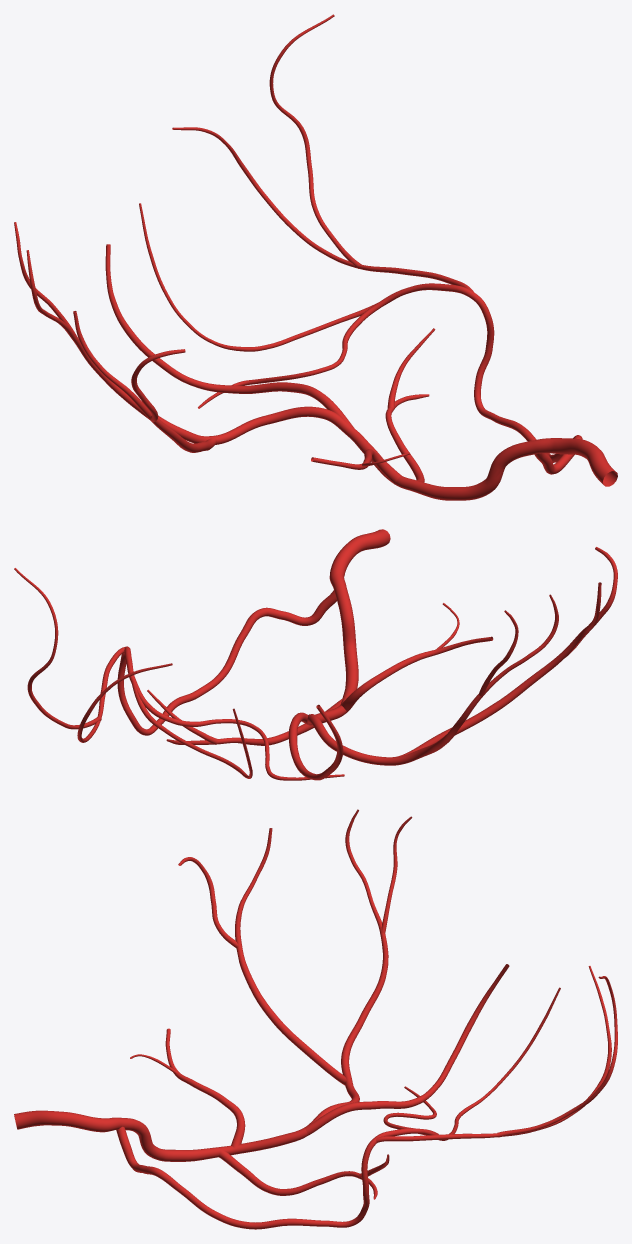
The model's file is circulatorio-posterior-inferior-cerebellar-artery-r.glb.
The picture shows the model from 3 angles, top to bottom: view 1: azimuth 30°, elevation 25°; view 2: azimuth 150°, elevation 25°; view 3: azimuth 270°, elevation 25°; orthographic projection. The views are drawn at different scales.
Visible parts, largest first — view 1: Posterior inferior cerebellar artery.r; view 2: Posterior inferior cerebellar artery.r; view 3: Posterior inferior cerebellar artery.r.
Boxes of the visible parts, left/top/right/bottom form: Posterior inferior cerebellar artery.r: left=14, top=14, right=617, bottom=500; Posterior inferior cerebellar artery.r: left=14, top=529, right=617, bottom=780; Posterior inferior cerebellar artery.r: left=14, top=809, right=617, bottom=1229.
Bounding box in the file's own units: 0.0468 × 0.0286 × 0.06.
